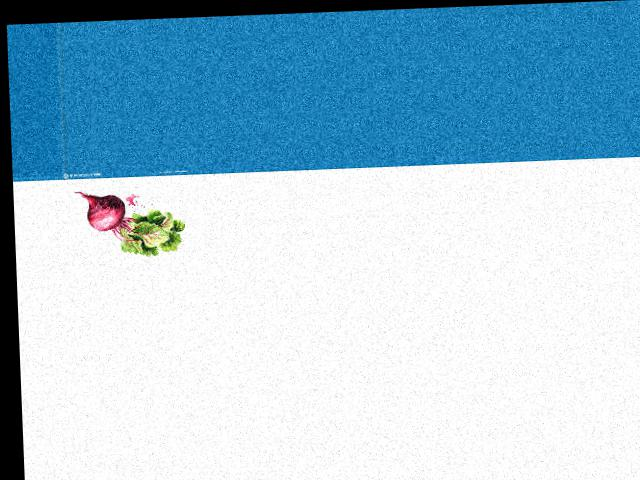beet: (75, 186, 187, 259)
